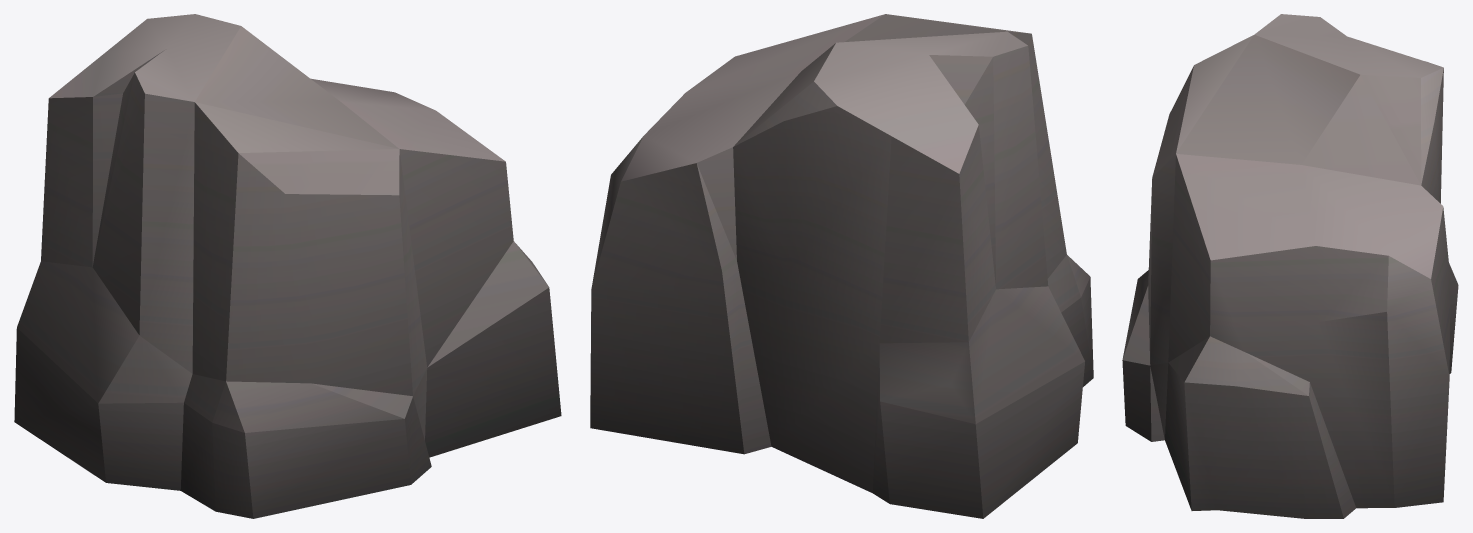
File: rock_1.glb
3 views of the same model, side by side, from view 1: azimuth 30°, elevation 25°; view 2: azimuth 150°, elevation 25°; view 3: azimuth 270°, elevation 25° (orthographic). The views are drawn at different scales.
Parts seen in each view (by area): view 1: rock_1; view 2: rock_1; view 3: rock_1.
Part boxes in pixels (box(x1,y1,x2,y2)): rock_1: box(14, 14, 561, 518); rock_1: box(590, 14, 1093, 518); rock_1: box(1122, 14, 1458, 518).
Size of the model in its own units: 1.85 by 1.59 by 1.4.
Materials: 1 (1 with a texture image).
